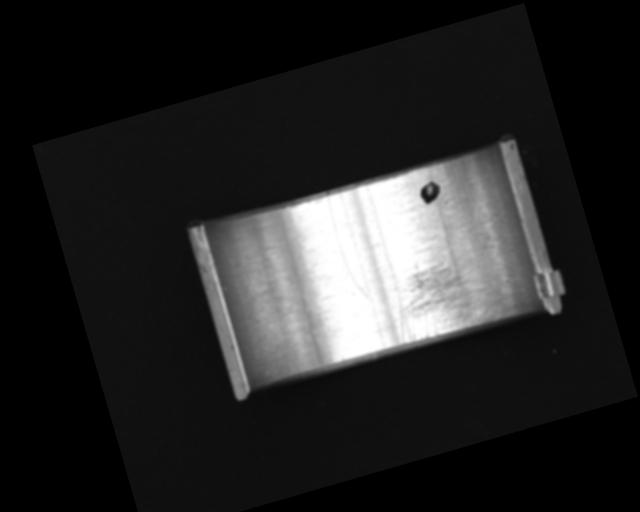blot: (415, 178, 445, 207)
nick: (323, 189, 369, 303)
scratch: (380, 242, 503, 347)
